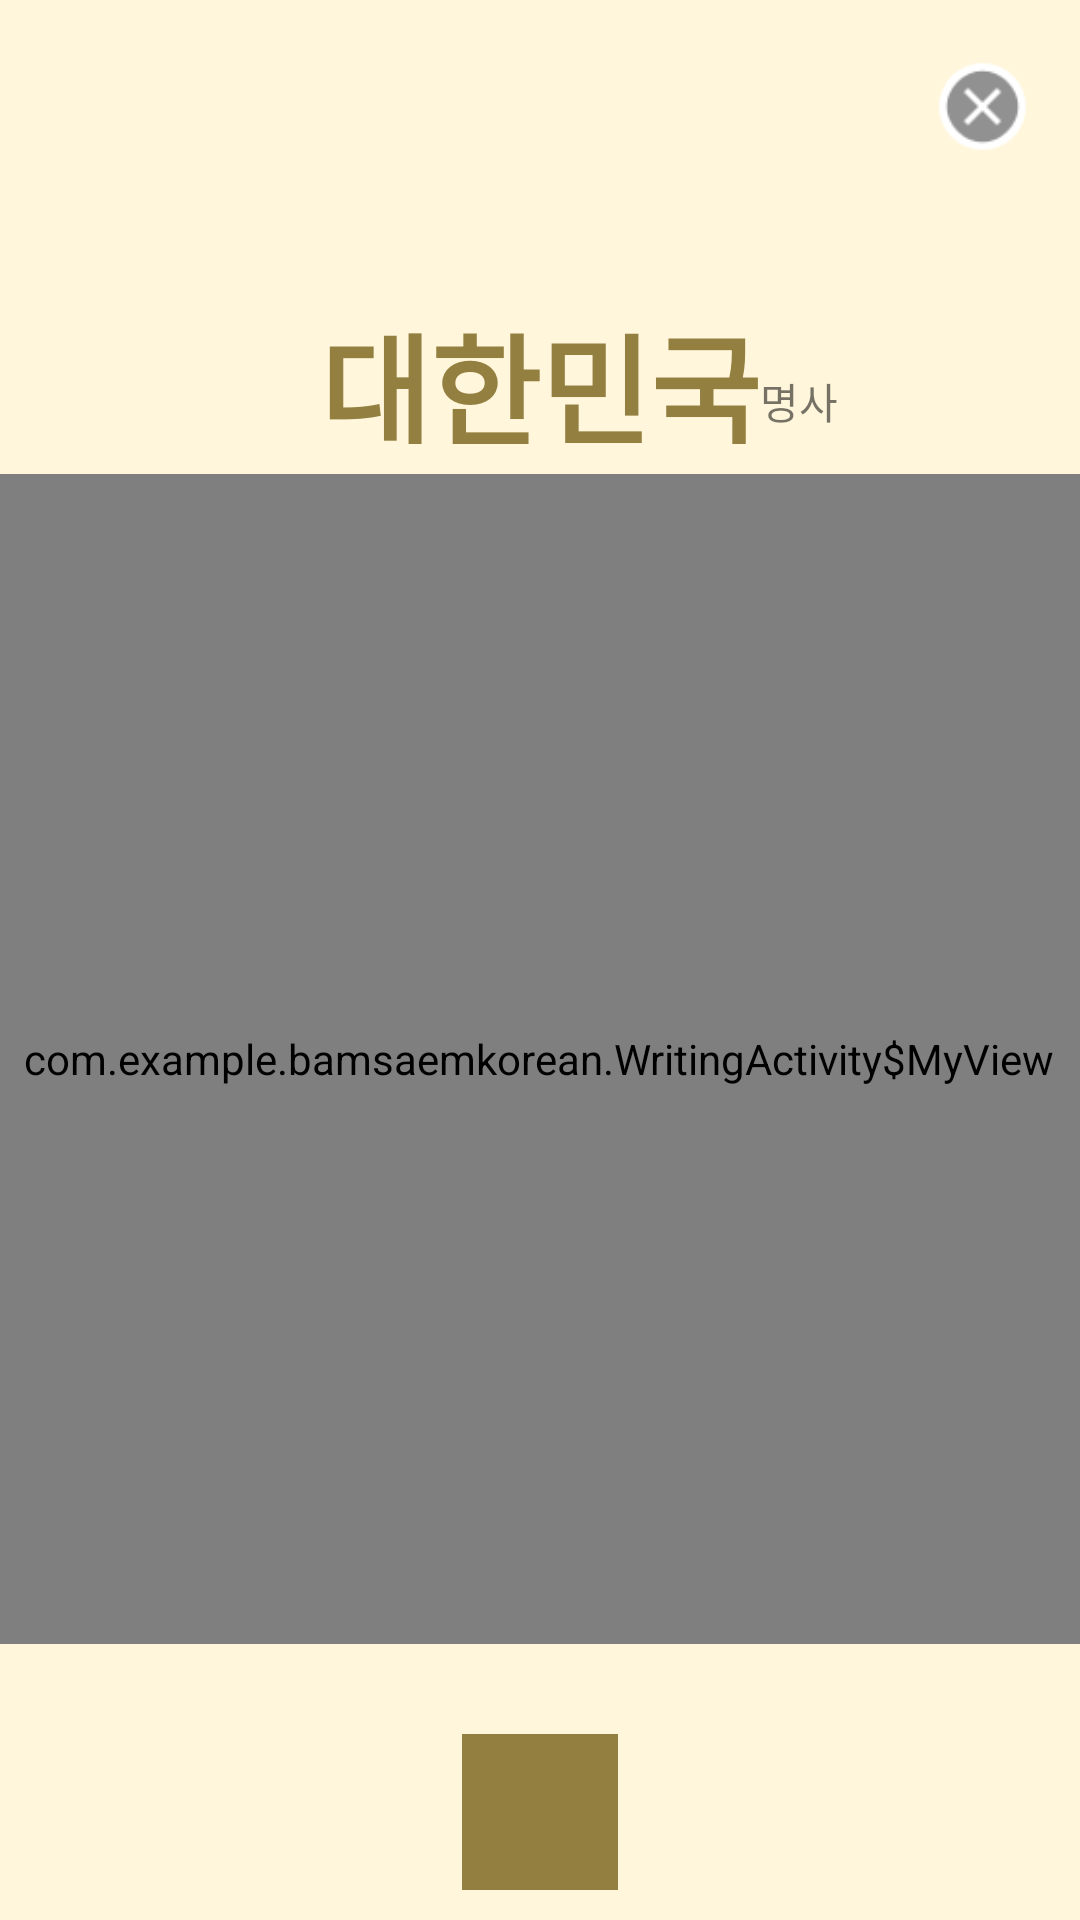

Icons on this 1080*1920 Android screen, each with the point to tap as point (x, y):
presence offline: point (982, 106)
